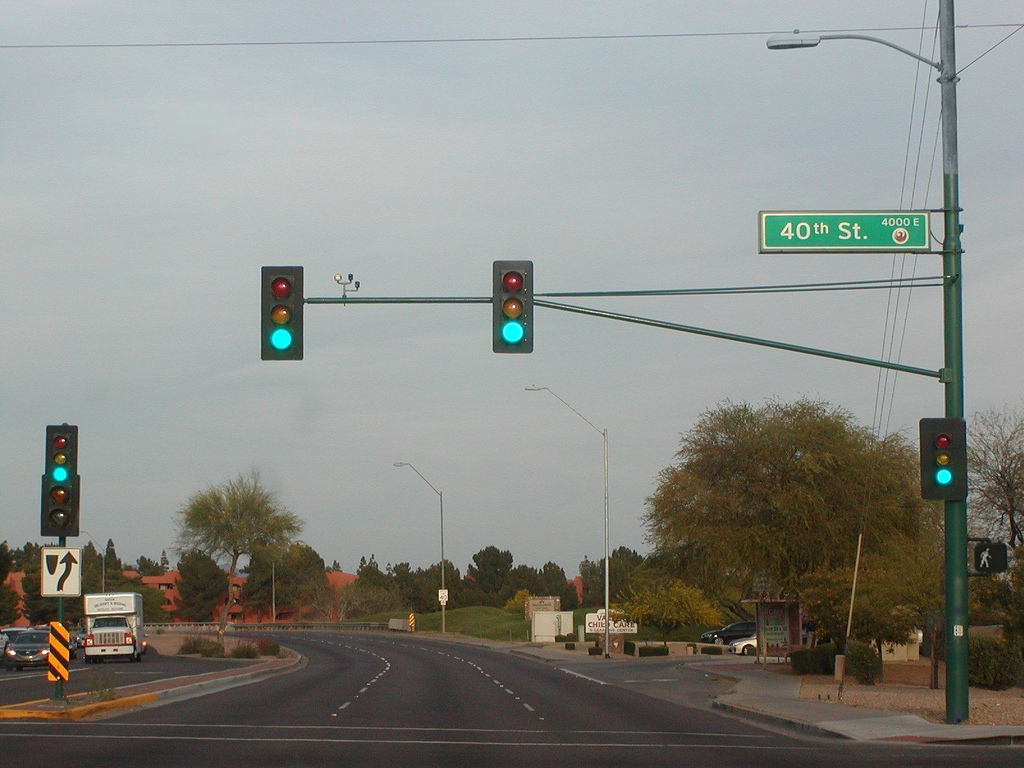traffic_light: (498, 268, 529, 347), (267, 273, 296, 354), (932, 431, 955, 488), (51, 432, 70, 484)
